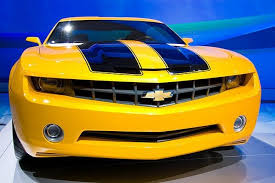car: (9, 16, 262, 166)
